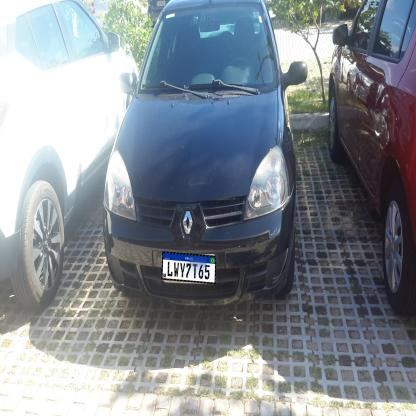PlacaM: (162, 251, 216, 284)
